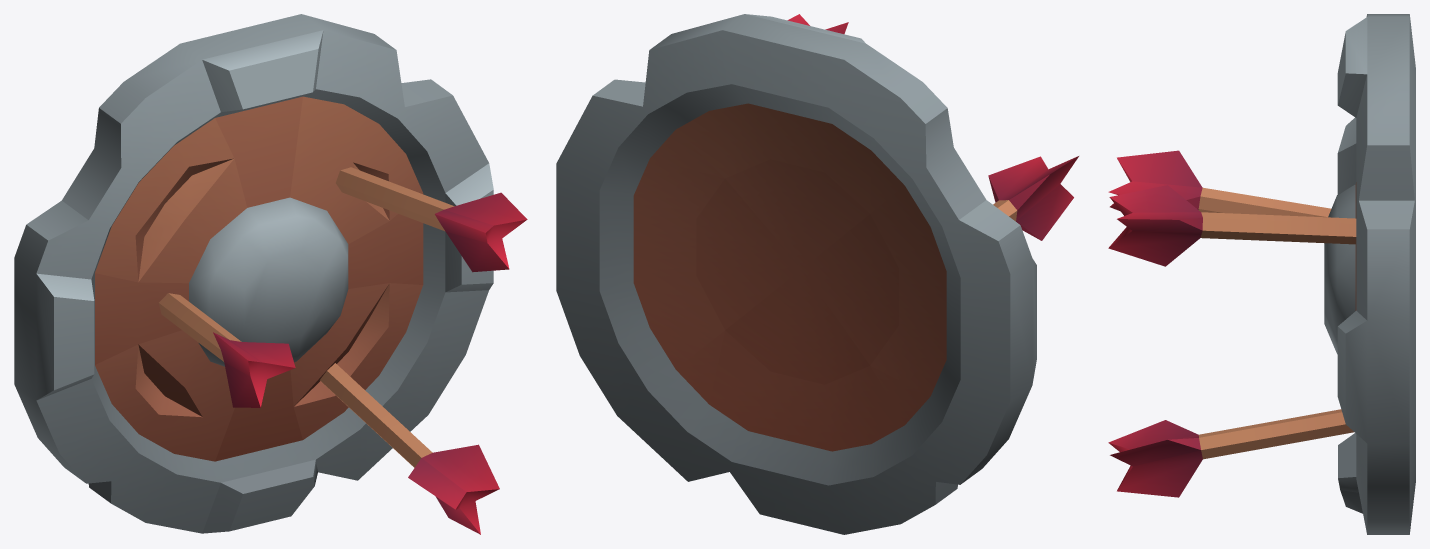
File: Skeleton_Shield_Small_B.glb
3 renders of one model, left to right at view 1: azimuth 30°, elevation 25°; view 2: azimuth 150°, elevation 25°; view 3: azimuth 270°, elevation 25°, orthographic. The views are drawn at different scales.
Bounding box in the file's own units: 0.8322 × 0.8322 × 0.5058.
1 material, 1 textured.
